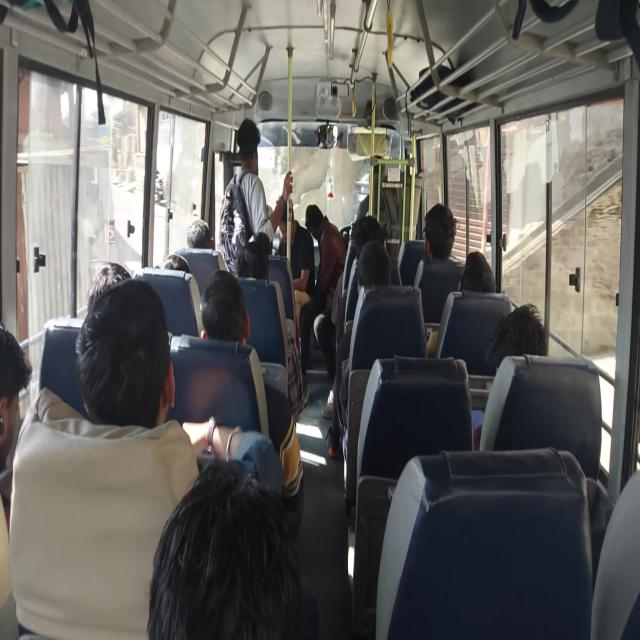person: (139, 470, 298, 640), (86, 305, 173, 413), (0, 329, 45, 425), (198, 272, 254, 341), (186, 215, 230, 282), (84, 269, 131, 331), (240, 228, 278, 293), (469, 256, 509, 315), (347, 210, 383, 267), (506, 311, 541, 369), (424, 195, 459, 252), (300, 196, 332, 254), (235, 115, 268, 161), (356, 242, 384, 295), (163, 248, 195, 289), (246, 222, 281, 257), (278, 198, 310, 235)
